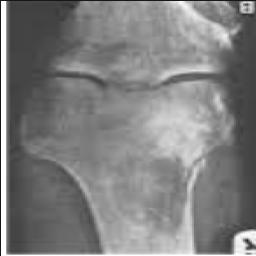cancer: (111, 44, 246, 235)
